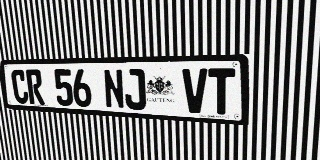5: (54, 69, 74, 106)
6: (71, 69, 92, 107)
C: (10, 69, 29, 104)
J: (123, 69, 146, 110)
N: (103, 69, 125, 109)
R: (25, 69, 45, 105)
T: (208, 68, 235, 115)
V: (182, 68, 208, 114)
